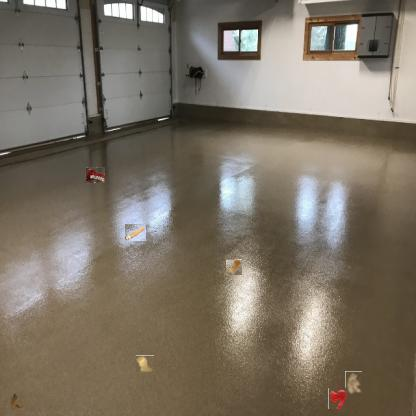dirty: (124, 223, 146, 242), (345, 371, 362, 394), (8, 394, 24, 414), (85, 167, 105, 183), (136, 355, 154, 372)
liquid: (328, 387, 347, 409), (226, 259, 243, 275)
